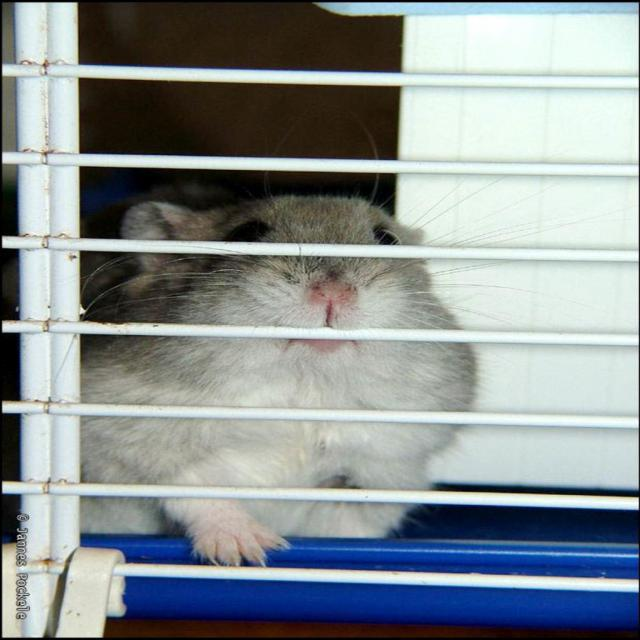rat: (77, 192, 482, 567)
